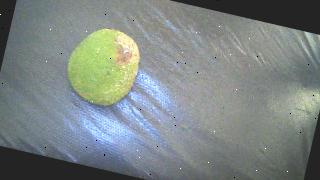DESECHO: (61, 21, 146, 111)
